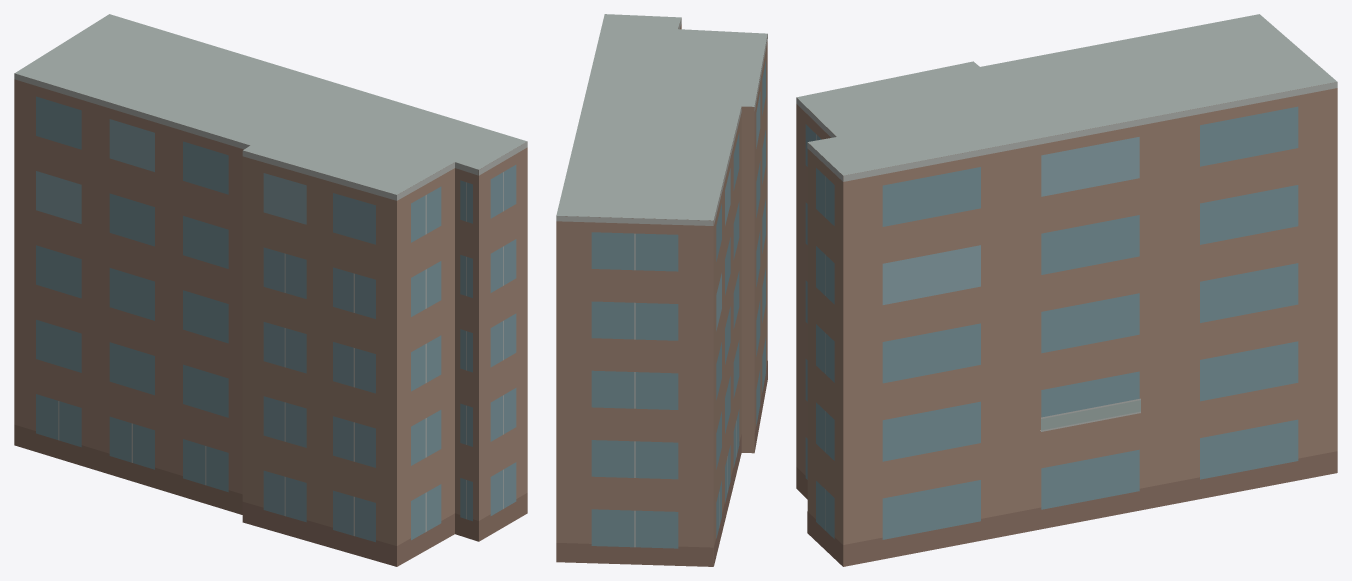
Rendered from survey-upis-32869651.glb.
The picture shows the model from 3 angles, left to right: view 1: azimuth 30°, elevation 25°; view 2: azimuth 150°, elevation 25°; view 3: azimuth 270°, elevation 25°; orthographic projection. The views are drawn at different scales.
Parts seen in each view (by area): view 1: survey-upis-32869651.tmp; view 2: survey-upis-32869651.tmp; view 3: survey-upis-32869651.tmp.
Boxes of the visible parts, box(x1,y1,x2,y2) form: survey-upis-32869651.tmp: box(14, 14, 527, 566); survey-upis-32869651.tmp: box(556, 14, 767, 566); survey-upis-32869651.tmp: box(796, 14, 1337, 566).
Bounding box in the file's own units: 13.57 × 15.3 × 19.19.
